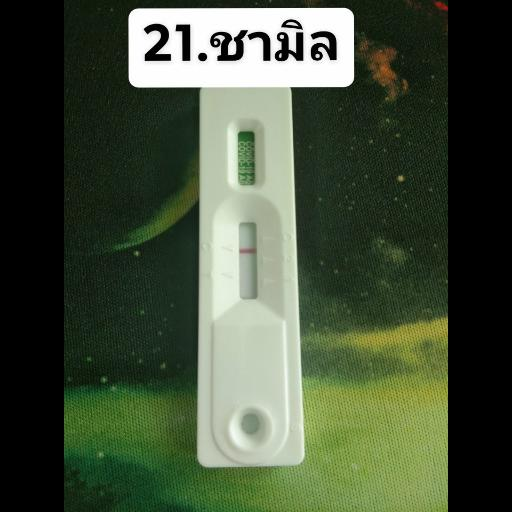Neg: (196, 84, 304, 466)
